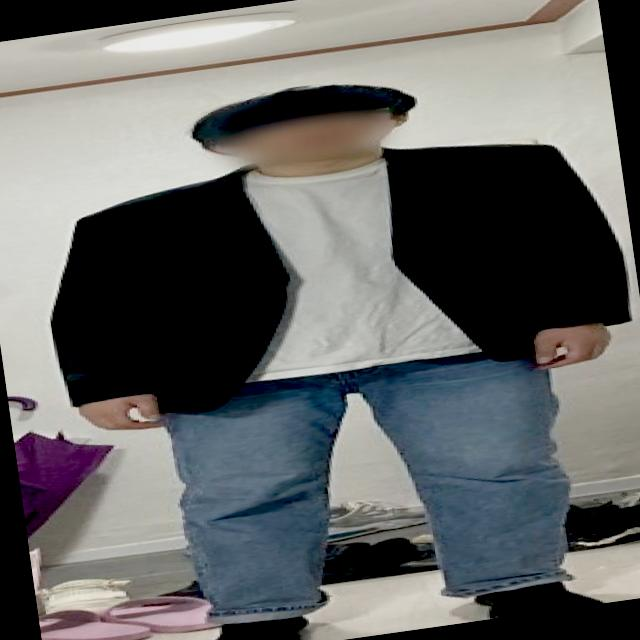blazer: (24, 109, 640, 424)
denimpants: (148, 328, 582, 640)
